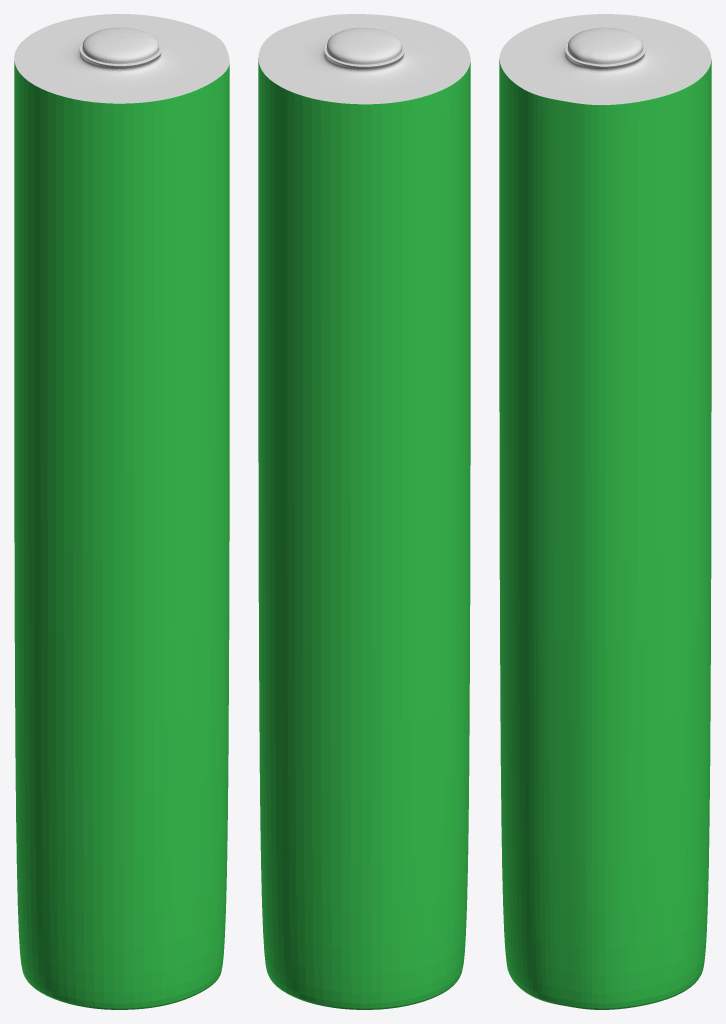
File: Battery2.fbx
The picture shows the model from 3 angles, left to right: view 1: azimuth 30°, elevation 25°; view 2: azimuth 150°, elevation 25°; view 3: azimuth 270°, elevation 25°; orthographic projection.
Visible parts, largest first — view 1: Cylinder; view 2: Cylinder; view 3: Cylinder.
Part boxes in pixels (x1,y1,x2,y2): Cylinder: (14, 14, 229, 1009); Cylinder: (258, 14, 470, 1009); Cylinder: (499, 14, 711, 1009).
Size of the model in its own units: 181 by 859 by 178.
